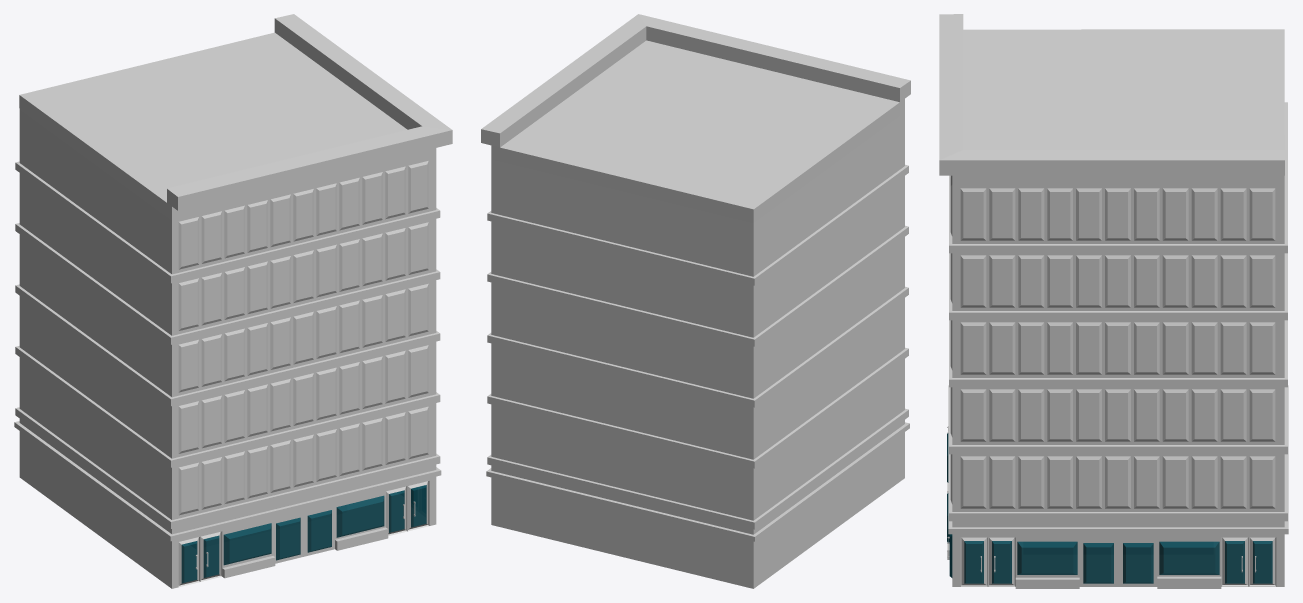
File: building_office_corner_02_small.fbx
3 views of the same model, side by side, from view 1: azimuth 30°, elevation 25°; view 2: azimuth 150°, elevation 25°; view 3: azimuth 270°, elevation 25° (orthographic). The views are drawn at different scales.
Visible parts, largest first — view 1: building_office_corner_02_small, building_office_corner_02_base_glass.002; view 2: building_office_corner_02_small; view 3: building_office_corner_02_small, building_office_corner_02_base_glass.002.
Boxes of the visible parts, x1,y1,x2,y2 form: building_office_corner_02_small: [14, 14, 452, 588]; building_office_corner_02_base_glass.002: [181, 485, 426, 583]; building_office_corner_02_small: [481, 14, 910, 588]; building_office_corner_02_small: [939, 14, 1288, 588]; building_office_corner_02_base_glass.002: [947, 433, 1272, 583].
Bounding box in the file's own units: 1893 × 2583 × 1893.
